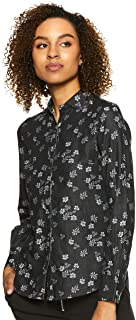shirt: (5, 88, 136, 304)
